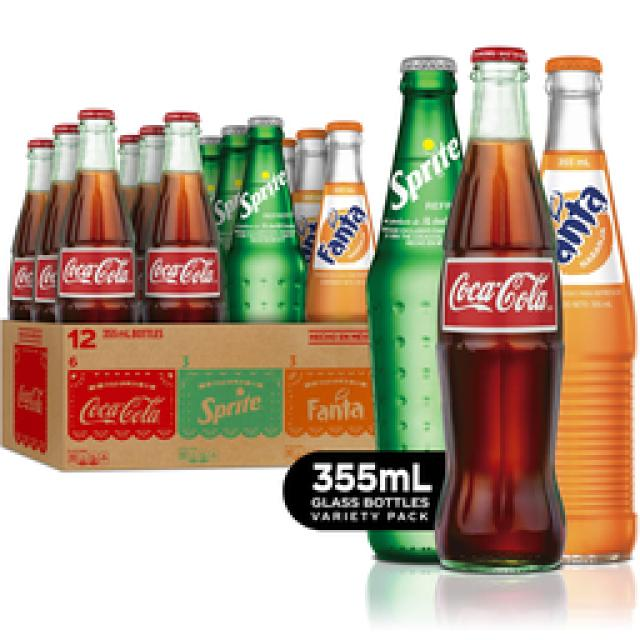glass_beverage_bottles: (442, 45, 562, 575), (538, 52, 634, 560), (373, 50, 462, 553)
